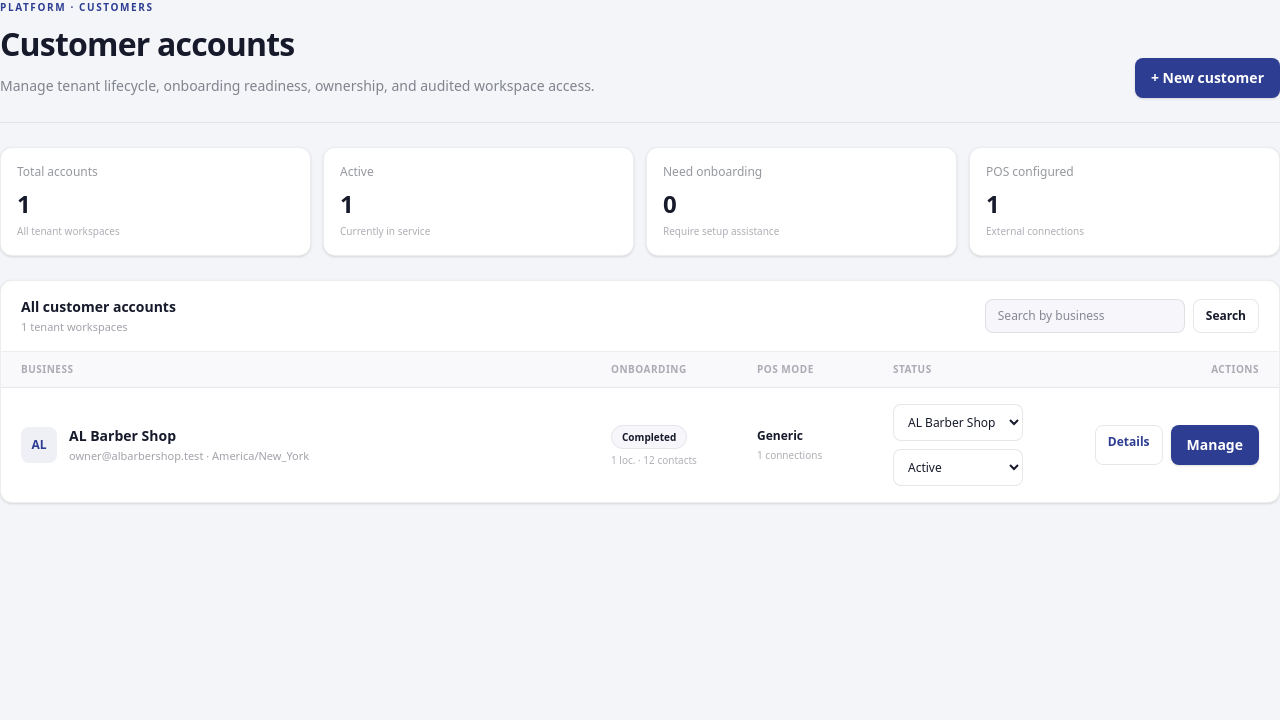
platform admin customer directory › shows tenant health and an explicit support-mode action
Expected: the heading "Customer accounts" is shown, [0, 22, 294, 65]
Expected: the heading "AL Barber Shop" is shown, [69, 426, 176, 445]
Click the button "Manage": (1215, 445) [1170, 425, 1259, 465]
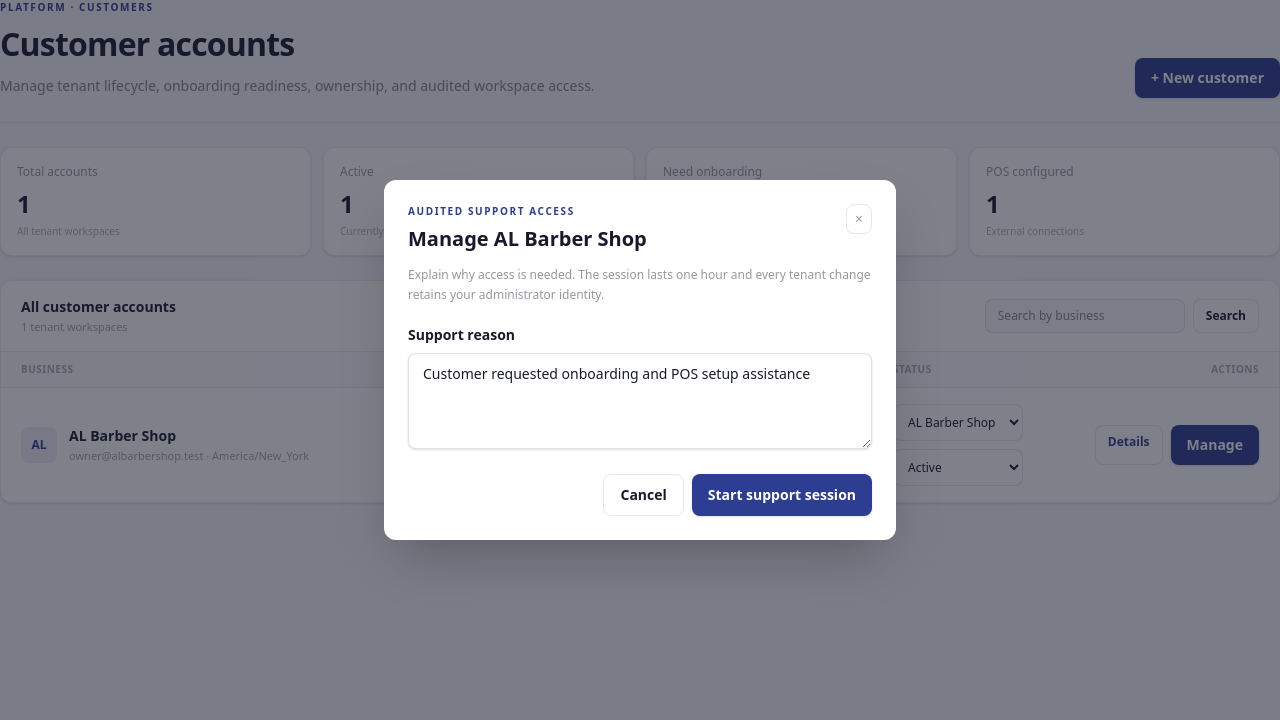
Expected: the dialog "Manage AL Barber Shop" is shown, [384, 180, 896, 540]
Expected: the button "Start support session" is shown, [692, 474, 872, 516]
